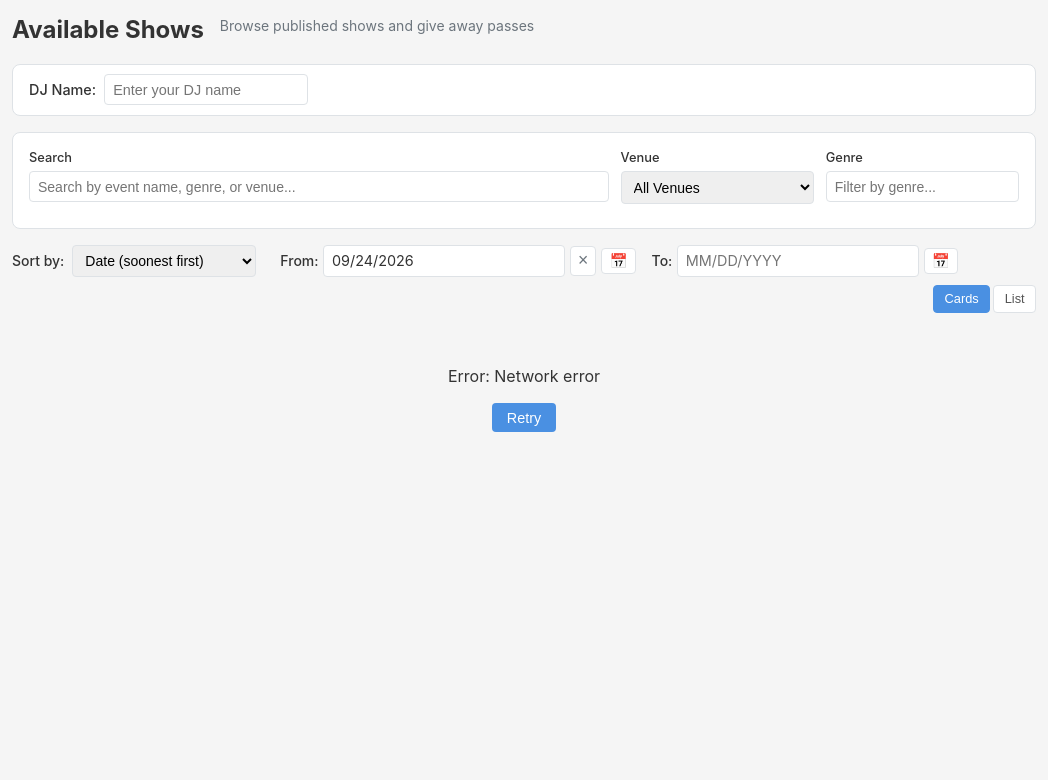
Test: ShowBrowser › Loading and Error States › should provide retry button on error
Check: the text "Error: Network error" is shown, box [448,366,600,386]
Click the button "Retry": x=524, y=418 [492,403,556,432]
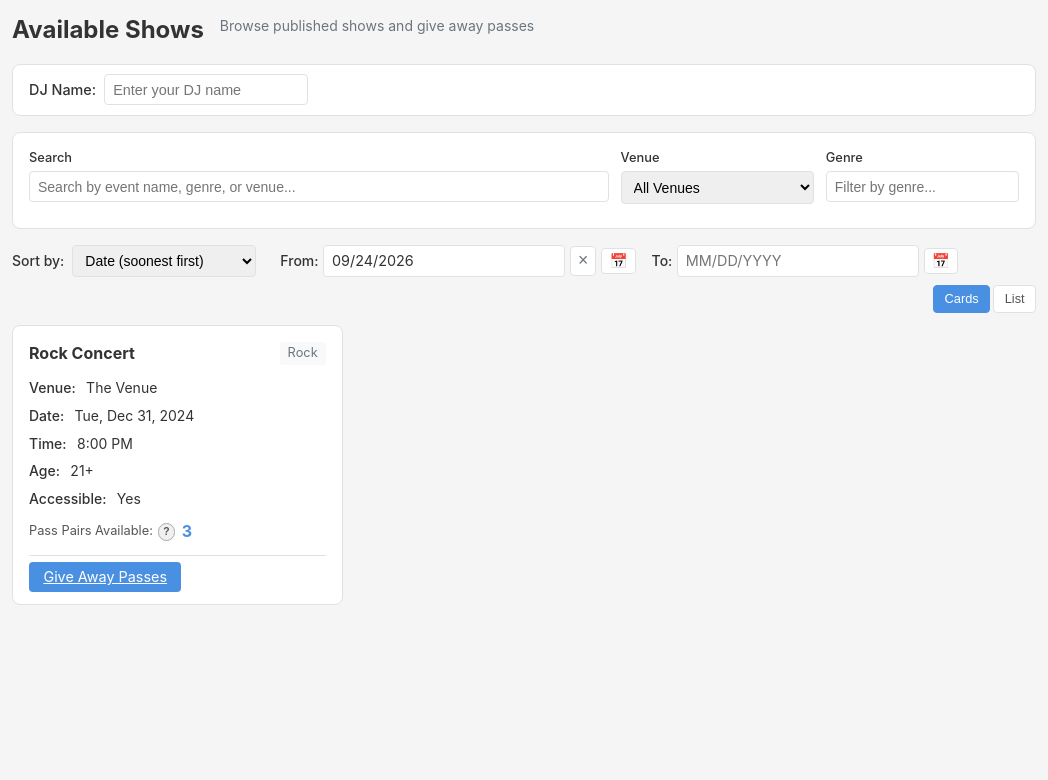
Check: the text "Rock Concert" is shown, box [29,343,135,363]
